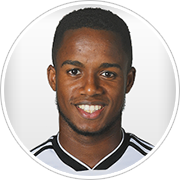smile: (71, 99, 108, 119)
